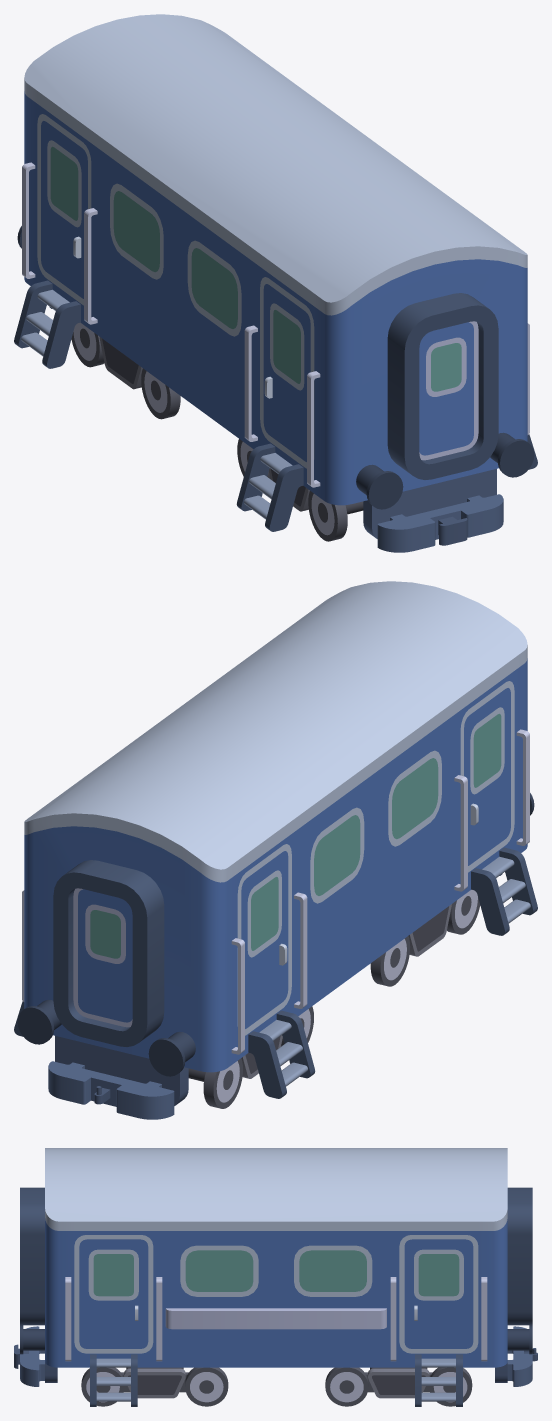
The model's file is Wagon Passenger A.fbx.
3 renders of one model, top to bottom at view 1: azimuth 30°, elevation 25°; view 2: azimuth 150°, elevation 25°; view 3: azimuth 270°, elevation 25°, orthographic. The views are drawn at different scales.
Parts seen in each view (by area): view 1: Wagon Passenger A, Wagon Passenger A Door.001, Wagon Passenger A Door.002, Wagon Passenger A Wheel.004, Wagon Passenger A Wheel.002, Wagon Passenger A Wheel, Wagon Passenger A Wheel.003; view 2: Wagon Passenger A, Wagon Passenger A Door.002, Wagon Passenger A Door.001, Wagon Passenger A Wheel.003, Wagon Passenger A Wheel.005, Wagon Passenger A Wheel.001, Wagon Passenger A Wheel.004; view 3: Wagon Passenger A, Wagon Passenger A Door, Wagon Passenger A Door.003, Wagon Passenger A Wheel.001, Wagon Passenger A Wheel, Wagon Passenger A Wheel.002, Wagon Passenger A Wheel.005, Wagon Passenger A Wheel.004, Wagon Passenger A Wheel.003.
Boxes of the visible parts, x1,y1,x2,y2 form: Wagon Passenger A: (14,14,537,552); Wagon Passenger A Door.001: (260,277,314,468); Wagon Passenger A Door.002: (37,114,91,305); Wagon Passenger A Wheel.004: (308,491,363,541); Wagon Passenger A Wheel.002: (141,368,180,419); Wagon Passenger A Wheel: (99,336,142,389); Wagon Passenger A Wheel.003: (71,322,104,367); Wagon Passenger A: (14,581,537,1119); Wagon Passenger A Door.002: (237,844,291,1035); Wagon Passenger A Door.001: (460,681,514,872); Wagon Passenger A Wheel.003: (188,1058,242,1108); Wagon Passenger A Wheel.005: (370,936,410,986); Wagon Passenger A Wheel.001: (408,904,451,956); Wagon Passenger A Wheel.004: (447,889,480,934); Wagon Passenger A: (14,1148,537,1406); Wagon Passenger A Door: (74,1235,153,1353); Wagon Passenger A Door.003: (399,1235,478,1353); Wagon Passenger A Wheel.001: (121,1367,188,1398); Wagon Passenger A Wheel: (365,1367,432,1398); Wagon Passenger A Wheel.002: (325,1367,368,1406); Wagon Passenger A Wheel.005: (185,1367,228,1406); Wagon Passenger A Wheel.004: (81,1367,124,1406); Wagon Passenger A Wheel.003: (429,1367,472,1406).
Bounding box in the file's own units: 4.44 × 4.74 × 10.29.
